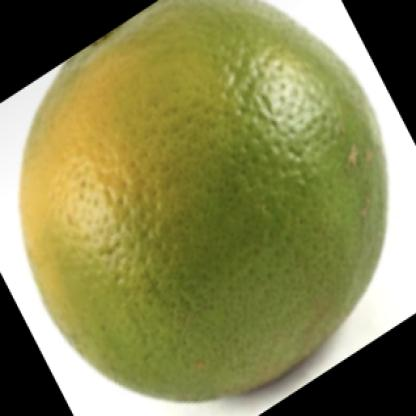fresh: (22, 3, 386, 405)
